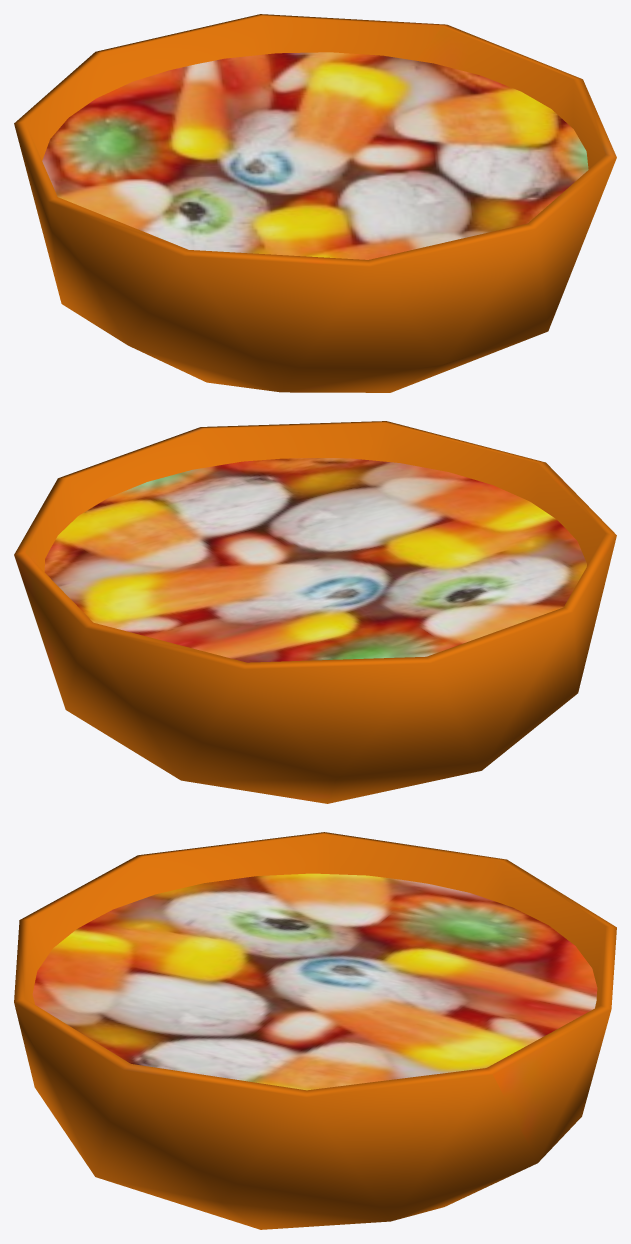
Rendered from halloween-bowel.dae.
3 views of the same model, one above another, from view 1: azimuth 30°, elevation 25°; view 2: azimuth 150°, elevation 25°; view 3: azimuth 270°, elevation 25° (orthographic). The views are drawn at different scales.
Visible parts, largest first — view 1: Icosphere; view 2: Icosphere; view 3: Icosphere.
Part boxes in pixels (x1,y1,x2,y2): Icosphere: (14,14,616,392); Icosphere: (14,421,616,803); Icosphere: (14,832,616,1229).
Bounding box in the file's own units: 0.2459 × 0.236 × 0.088.
1 material, 1 textured.
